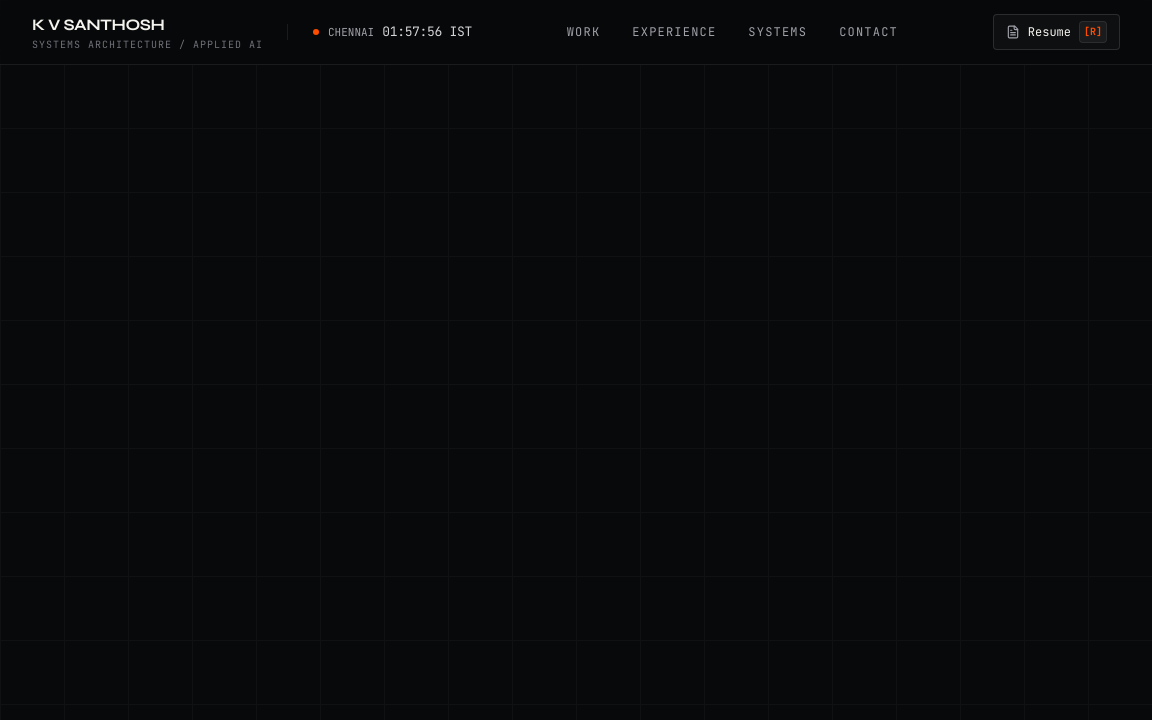
Full Application Integration › toggles resume drawer via HUD button
Click the button with aria-label "Open Resume [R]". click: (1056, 32)
box: [993,14,1120,50]
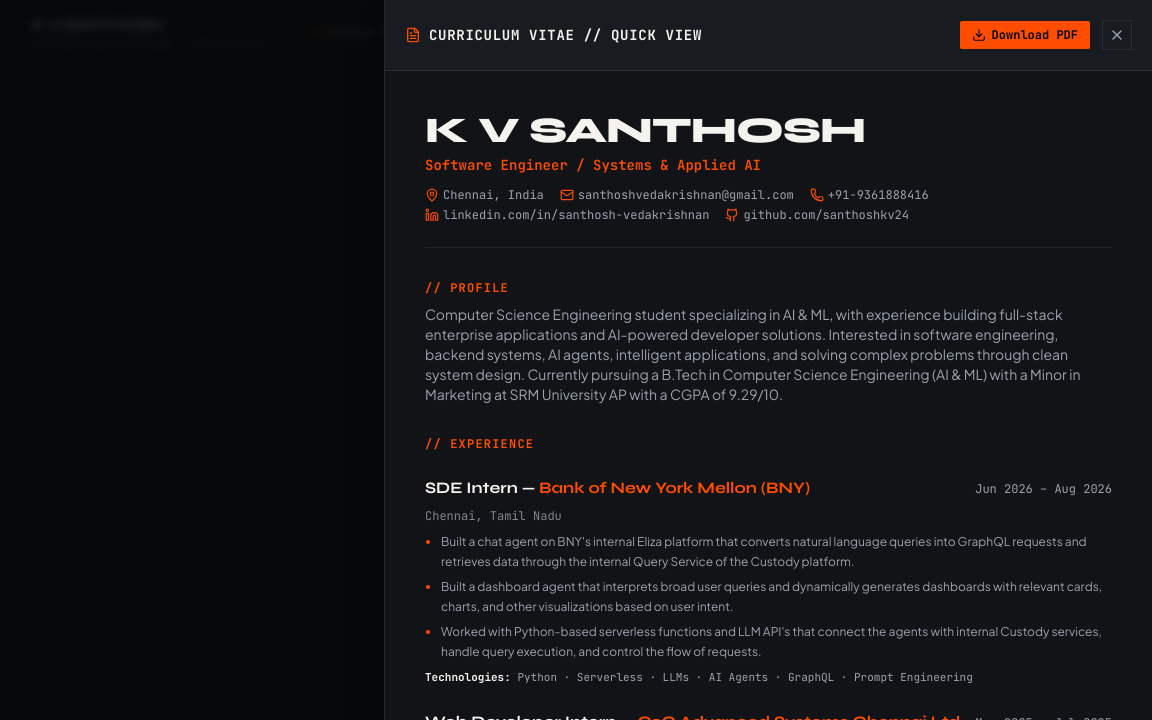
expect the element with test id "resume-drawer" is shown: met
Click the button named "Close resume drawer". click: (1117, 35)
box: [1102,20,1132,50]
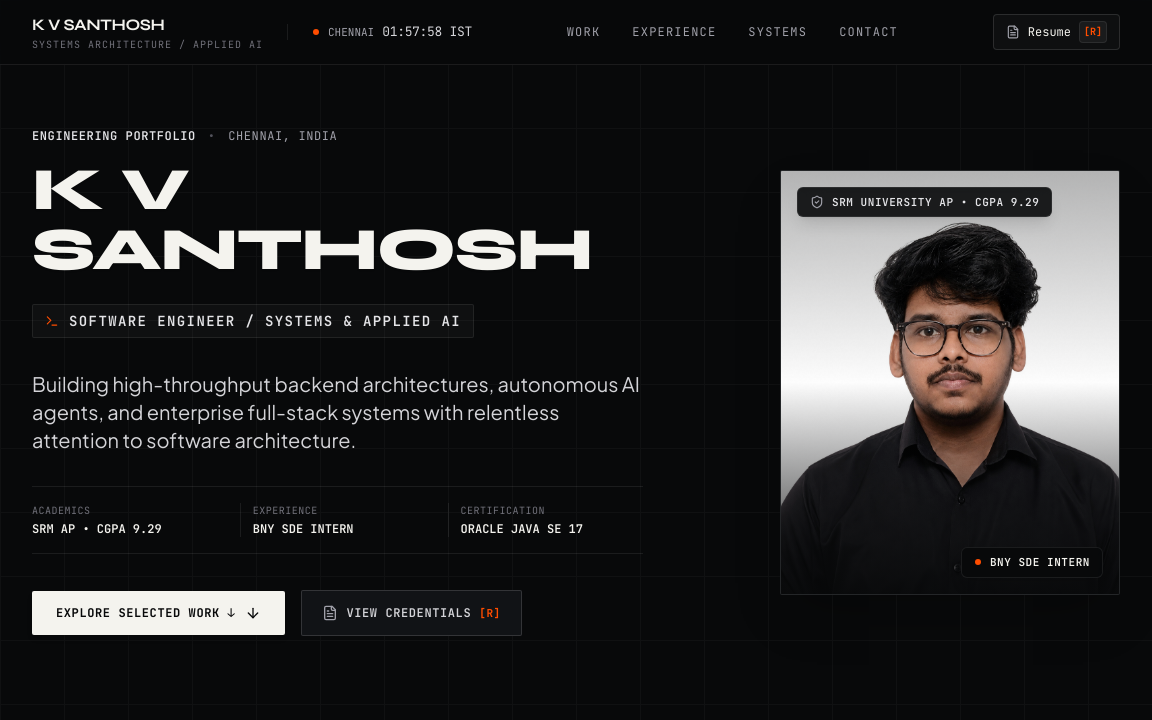
expect the element with test id "resume-drawer" is gone: met
